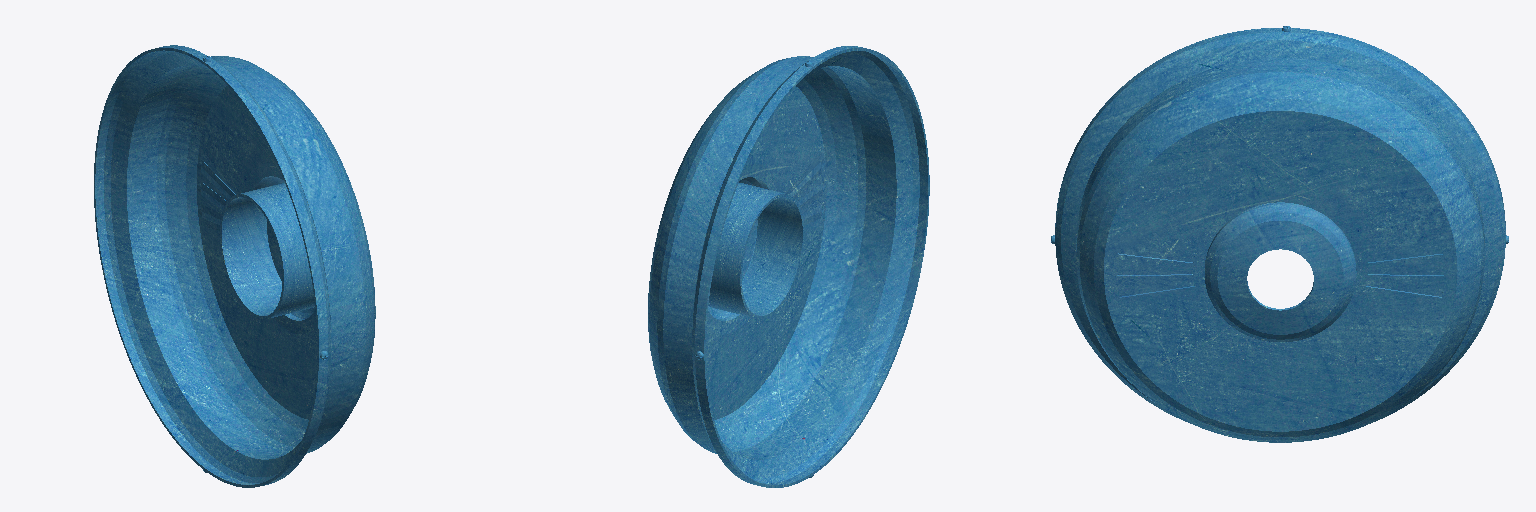
3 renders of one model, left to right at view 1: azimuth 30°, elevation 25°; view 2: azimuth 150°, elevation 25°; view 3: azimuth 270°, elevation 25°, orthographic.
Visible parts, largest first — view 1: Cylinder.023; view 2: Cylinder.023; view 3: Cylinder.023.
Part boxes in pixels (bbox=[...]): Cylinder.023: bbox=[94, 45, 375, 487]; Cylinder.023: bbox=[648, 46, 929, 487]; Cylinder.023: bbox=[1051, 26, 1508, 442].
Size of the model in its own units: 0.0288 by 0.116 by 0.116.
Materials: 1 (1 with a texture image).